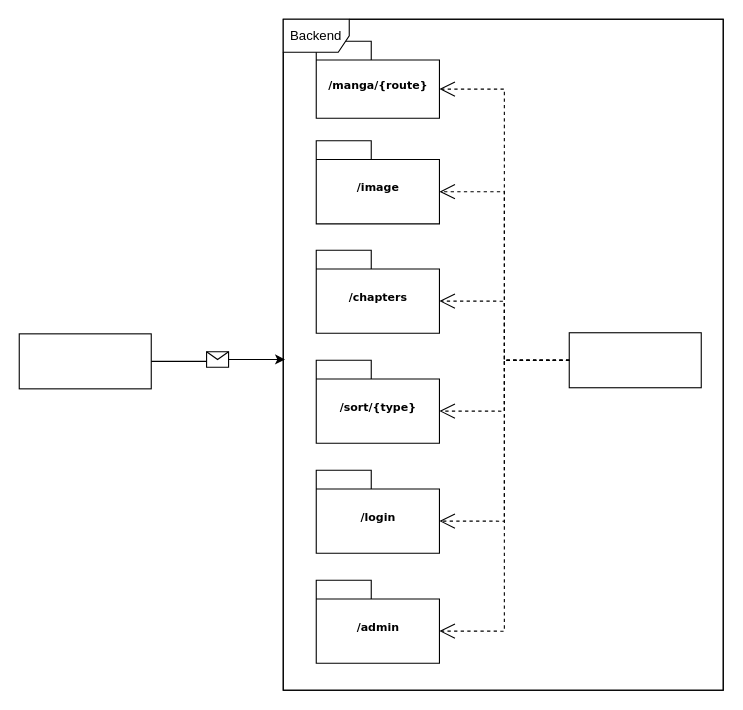
Image size: 743x710. Some labels were removed from this diagram. The centre of each missing label's shape, as x and y in pixels:
"Front" goes at [84,361].
"Server" goes at [634,360].
